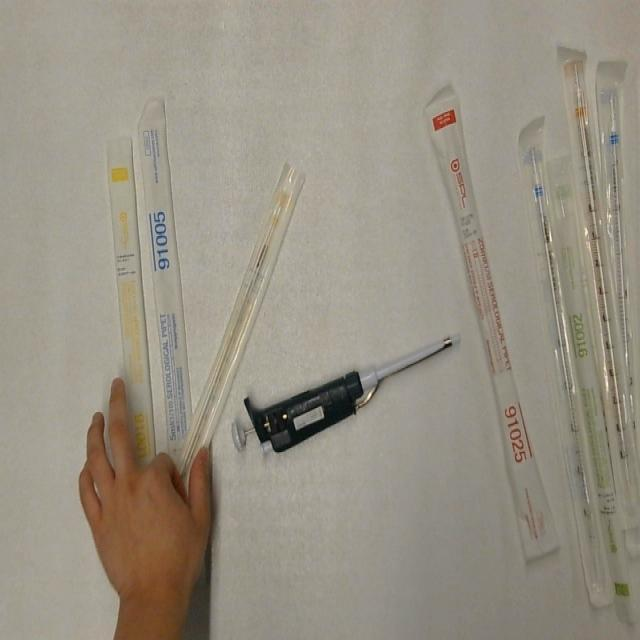Pipette Controller: (421, 82, 564, 564)
Serelogical Pipet 1 mL: (166, 156, 312, 504), (102, 132, 162, 533)
Serelogical Pipet 10 mL: (559, 44, 640, 528)
Serelogical Pipet 2 mL: (542, 148, 638, 629)
Serelogical Pipet 5 mL: (515, 109, 617, 613), (134, 93, 210, 465), (593, 56, 640, 465)
Single Channel Pipettor: (230, 326, 464, 461)
